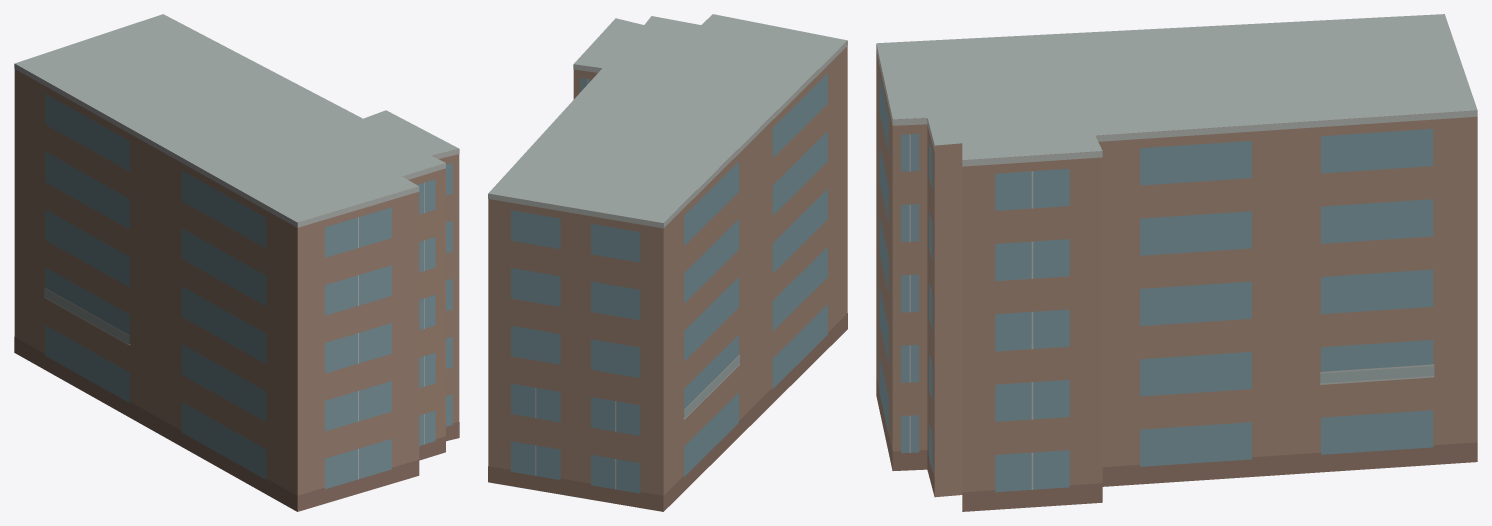
File: survey-upis-32604760.glb
The picture shows the model from 3 angles, left to right: view 1: azimuth 30°, elevation 25°; view 2: azimuth 150°, elevation 25°; view 3: azimuth 270°, elevation 25°; orthographic projection. The views are drawn at different scales.
Parts seen in each view (by area): view 1: survey-upis-32604760.tmp; view 2: survey-upis-32604760.tmp; view 3: survey-upis-32604760.tmp.
Part boxes in pixels (x1,y1,x2,y2): survey-upis-32604760.tmp: [14, 14, 459, 511]; survey-upis-32604760.tmp: [488, 14, 847, 511]; survey-upis-32604760.tmp: [876, 14, 1477, 511].
Bounding box in the file's own units: 11.87 × 13.3 × 20.62.
